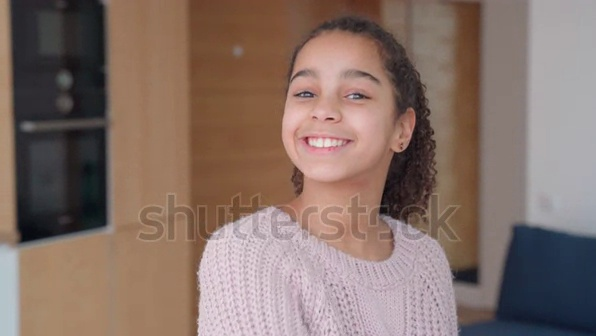No Mask: (275, 116, 391, 188)
